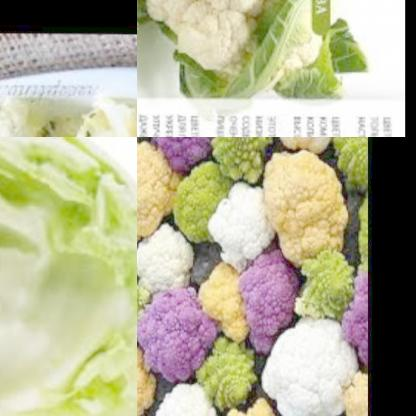cayliflower: (137, 0, 363, 85), (262, 147, 351, 274), (256, 309, 359, 416), (137, 287, 212, 383), (0, 91, 137, 137), (159, 159, 229, 249), (207, 181, 276, 267), (191, 340, 265, 416), (281, 249, 352, 325), (194, 266, 256, 343), (137, 141, 183, 240), (137, 219, 190, 297), (204, 137, 274, 184), (336, 261, 366, 360), (146, 376, 214, 416), (145, 137, 220, 173), (333, 137, 367, 196), (331, 364, 366, 416), (137, 341, 160, 416), (137, 244, 153, 350), (257, 137, 346, 154)
salad: (0, 137, 137, 416)
